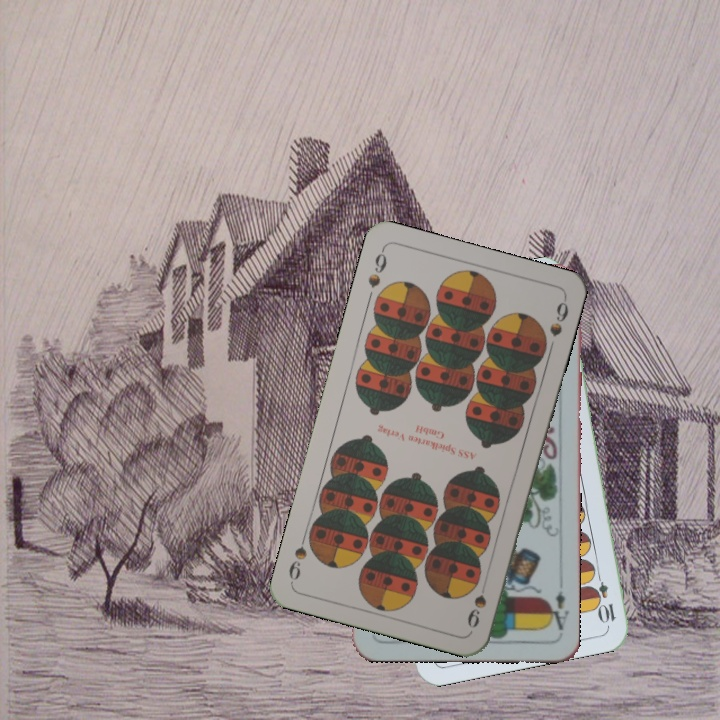E10: (590, 567, 618, 626)
EA: (544, 587, 571, 633)
S9: (463, 574, 490, 630), (363, 245, 390, 291)
